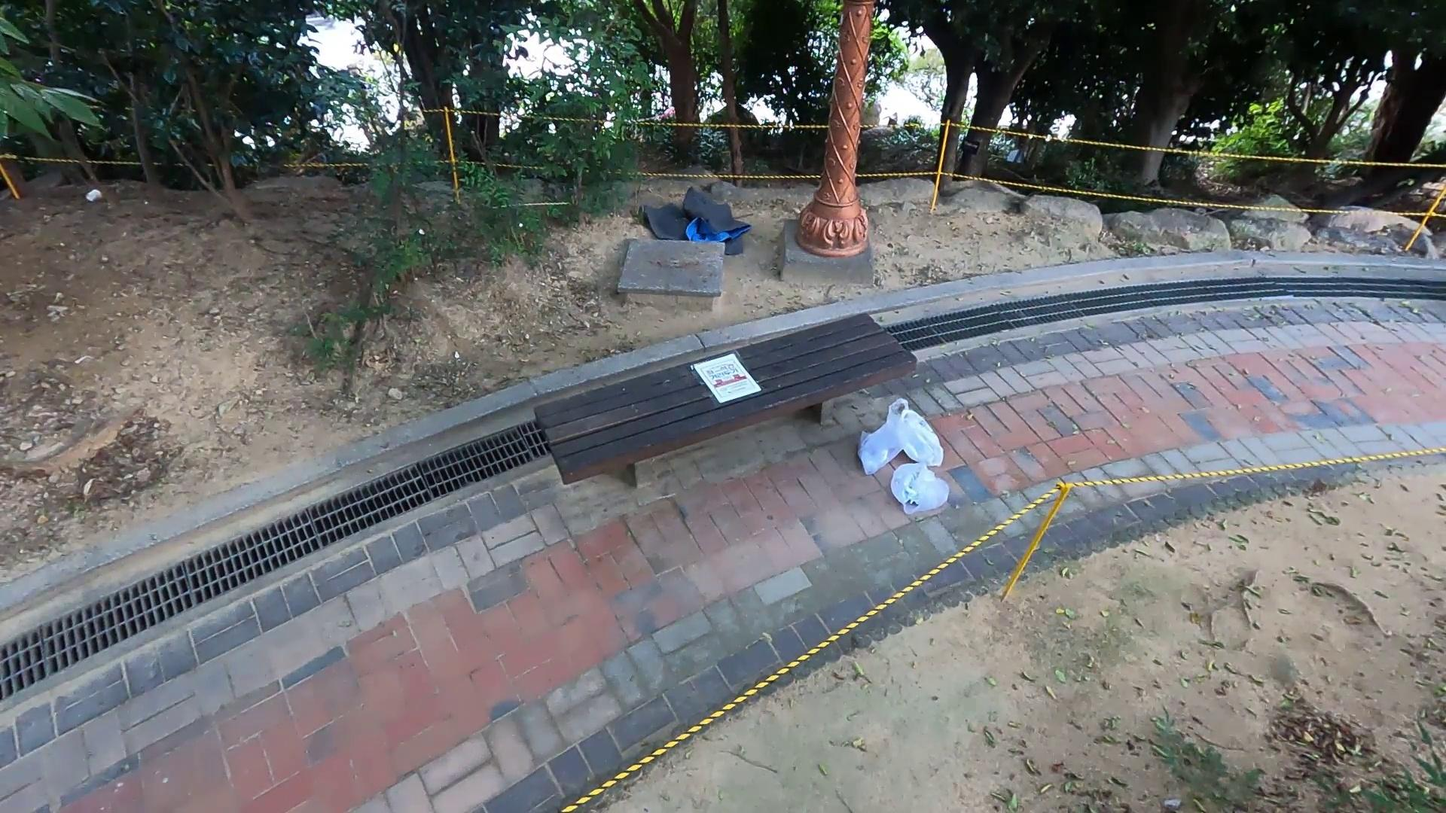trash: (641, 184, 753, 256), (858, 397, 910, 477), (891, 465, 952, 515), (901, 406, 945, 465)
